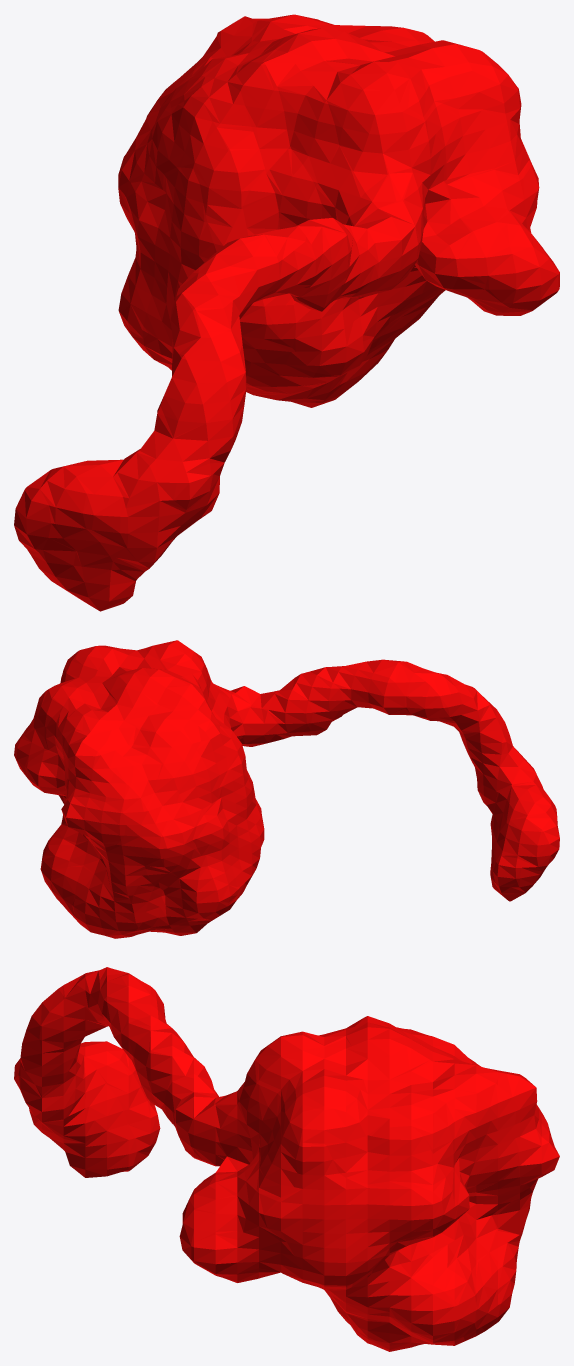
The model's file is lipA_coarse.dae.
3 renders of one model, top to bottom at view 1: azimuth 30°, elevation 25°; view 2: azimuth 150°, elevation 25°; view 3: azimuth 270°, elevation 25°, orthographic. The views are drawn at different scales.
Parts seen in each view (by area): view 1: lipA; view 2: lipA; view 3: lipA.
Boxes of the visible parts, bbox=[...] form: lipA: bbox=[14, 14, 559, 611]; lipA: bbox=[14, 640, 559, 938]; lipA: bbox=[14, 967, 559, 1351].
Size of the model in its own units: 91.19 by 52.21 by 82.2.
